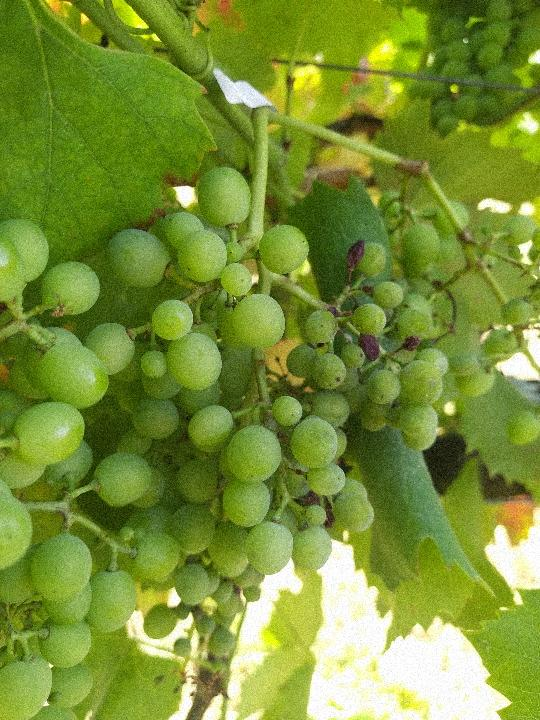grape: (85, 163, 456, 618)
